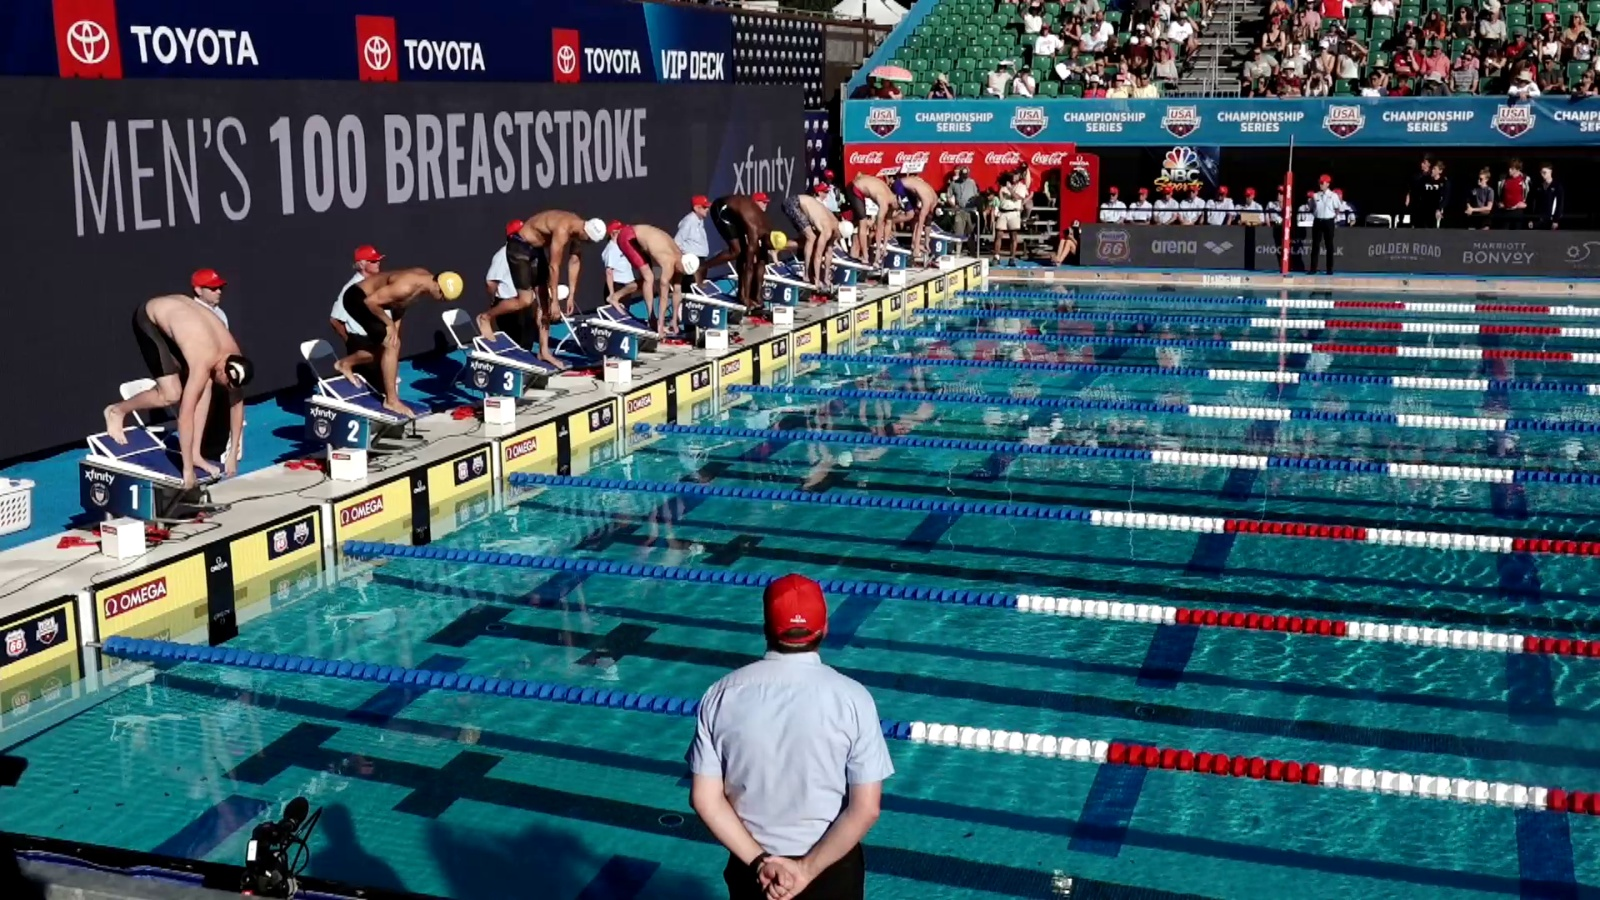swimmerw: (109, 295, 243, 471), (490, 209, 605, 375), (334, 267, 462, 413), (699, 192, 790, 309), (615, 229, 702, 331), (777, 192, 853, 293), (889, 173, 957, 262), (841, 175, 910, 262)
